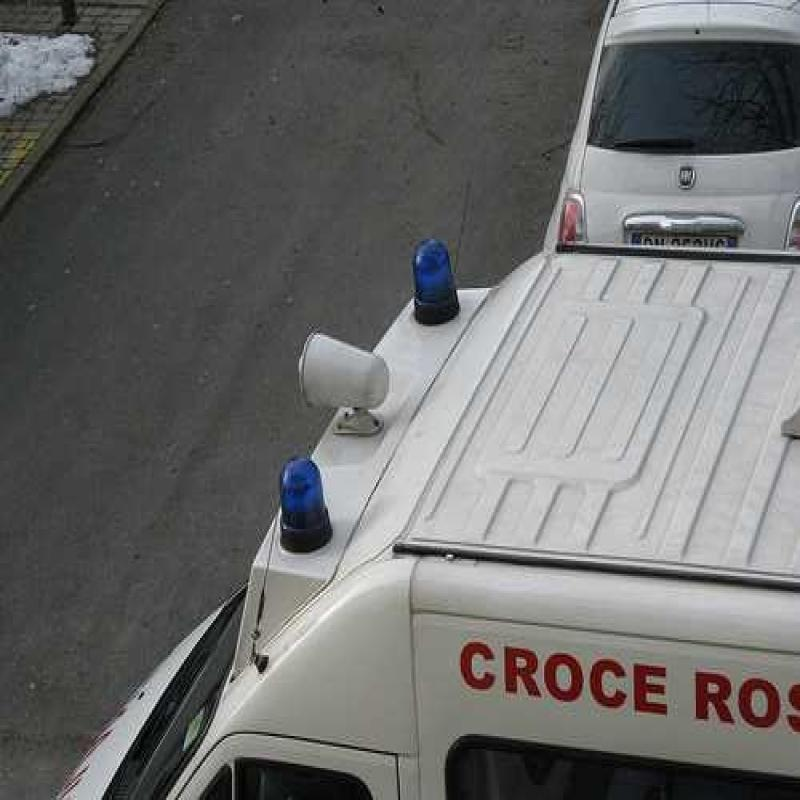AmbulanceSiren: (263, 455, 347, 545), (391, 231, 461, 314)
